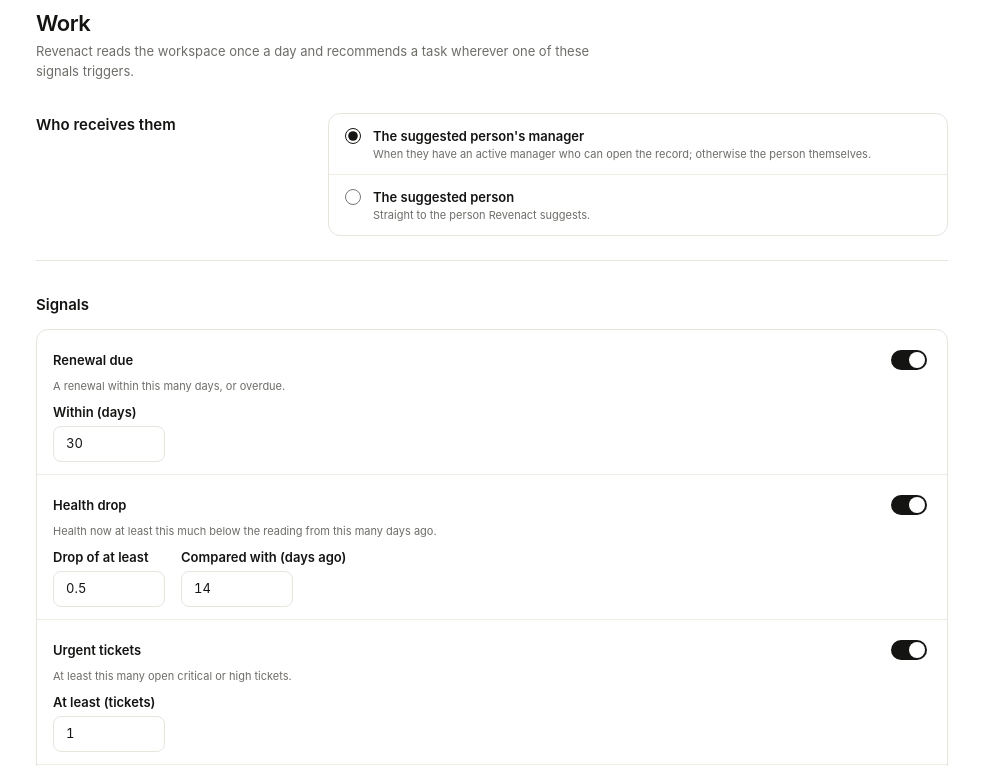
Settings › Work › Recommendations (spec §2.4; Decisions 10 to 12) › saves through the page bar when Enter is pressed in a threshold
The image size is (989, 766).
Replace the text in the field labelled "Within (days)" with "45" at (109, 444), box [53,426,165,462]
(page scrolled)
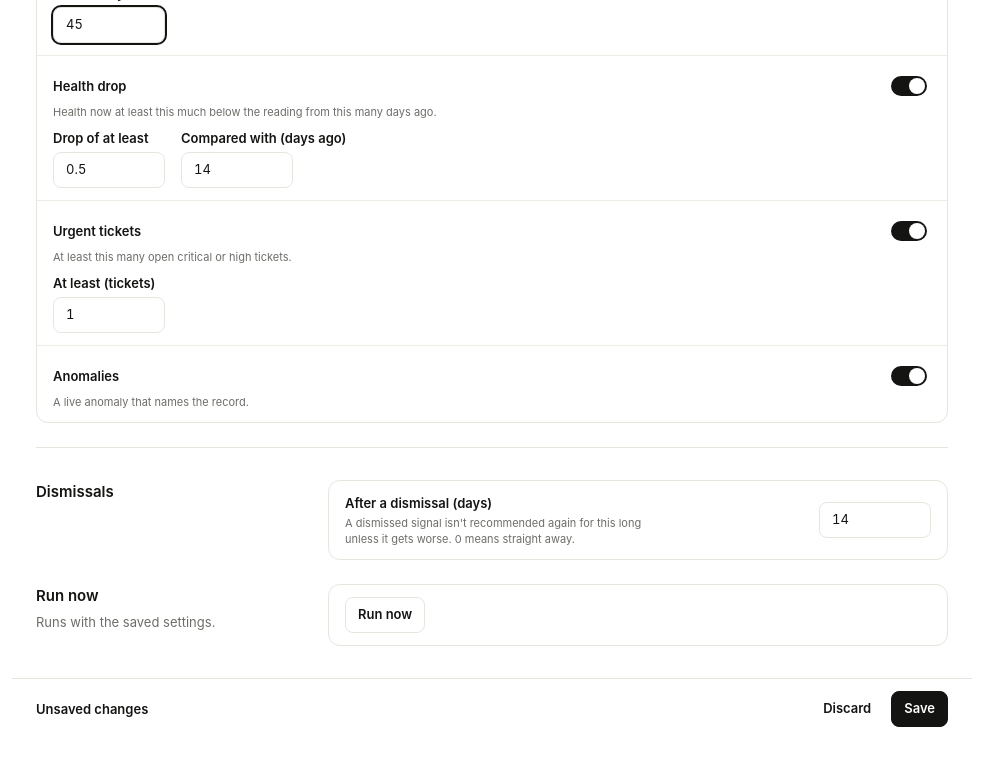
Replace the text in the field labelled "After a dismissal (days)" with "7" at (875, 520), box [819,502,931,538]
Then press Enter
(page scrolled)
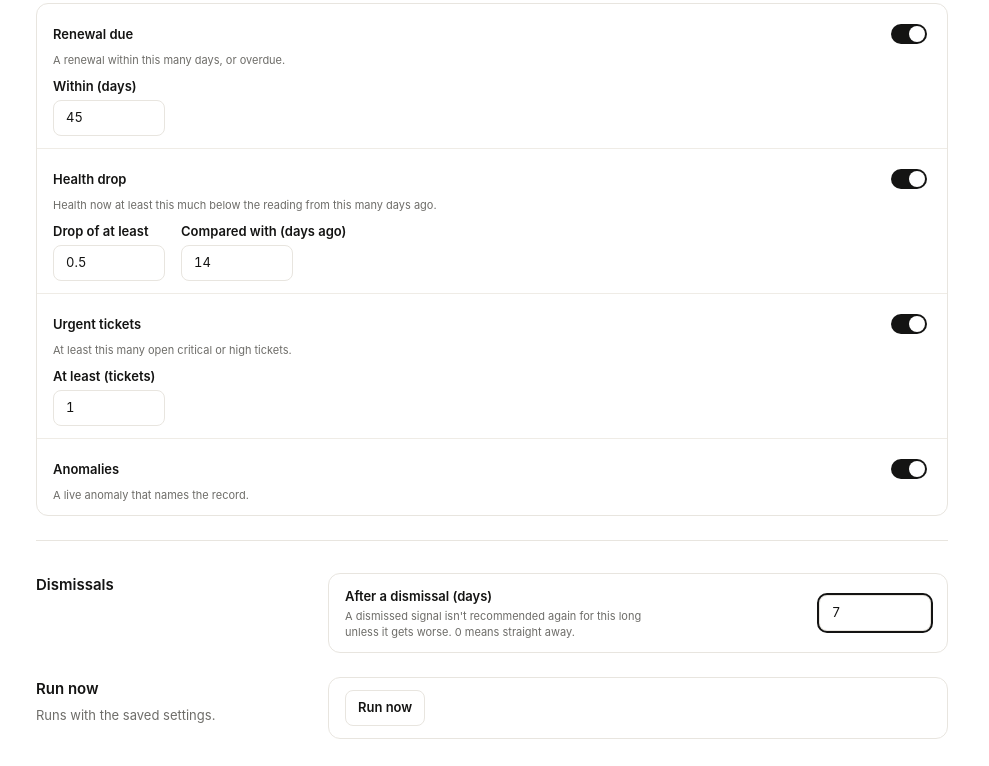
Check: the text "Unsaved changes" is gone
